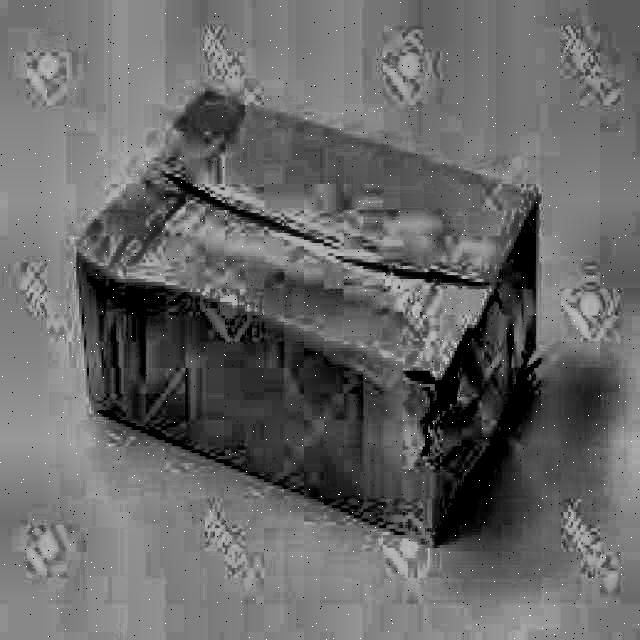box: (71, 82, 557, 563)
hole: (401, 351, 463, 448)
